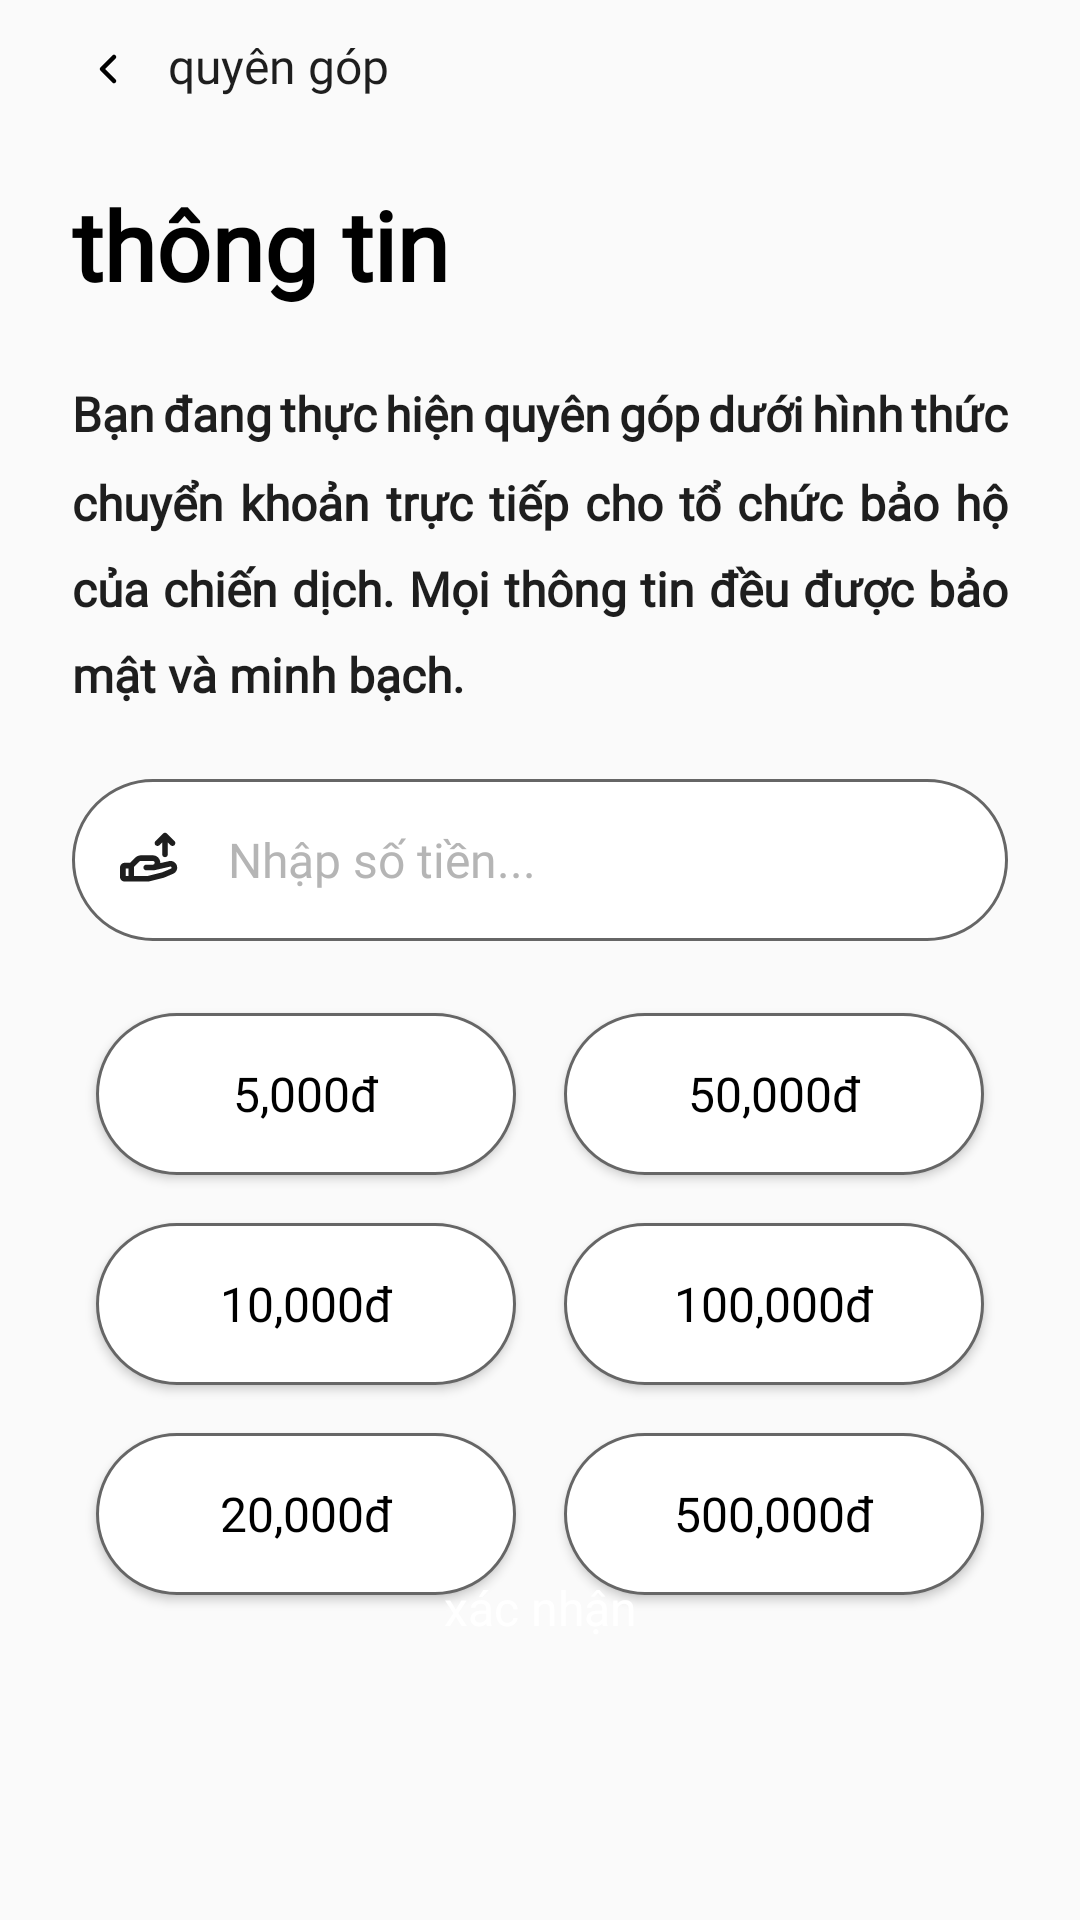

Icon click points for this 1080px×1920px phone screenshot, format point (x, y):
back: point (108, 69)
